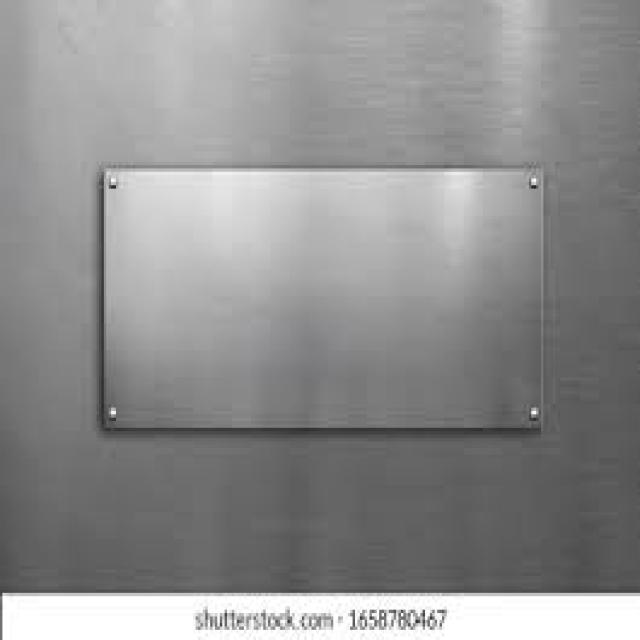Dry Waste: (99, 165, 546, 431)
